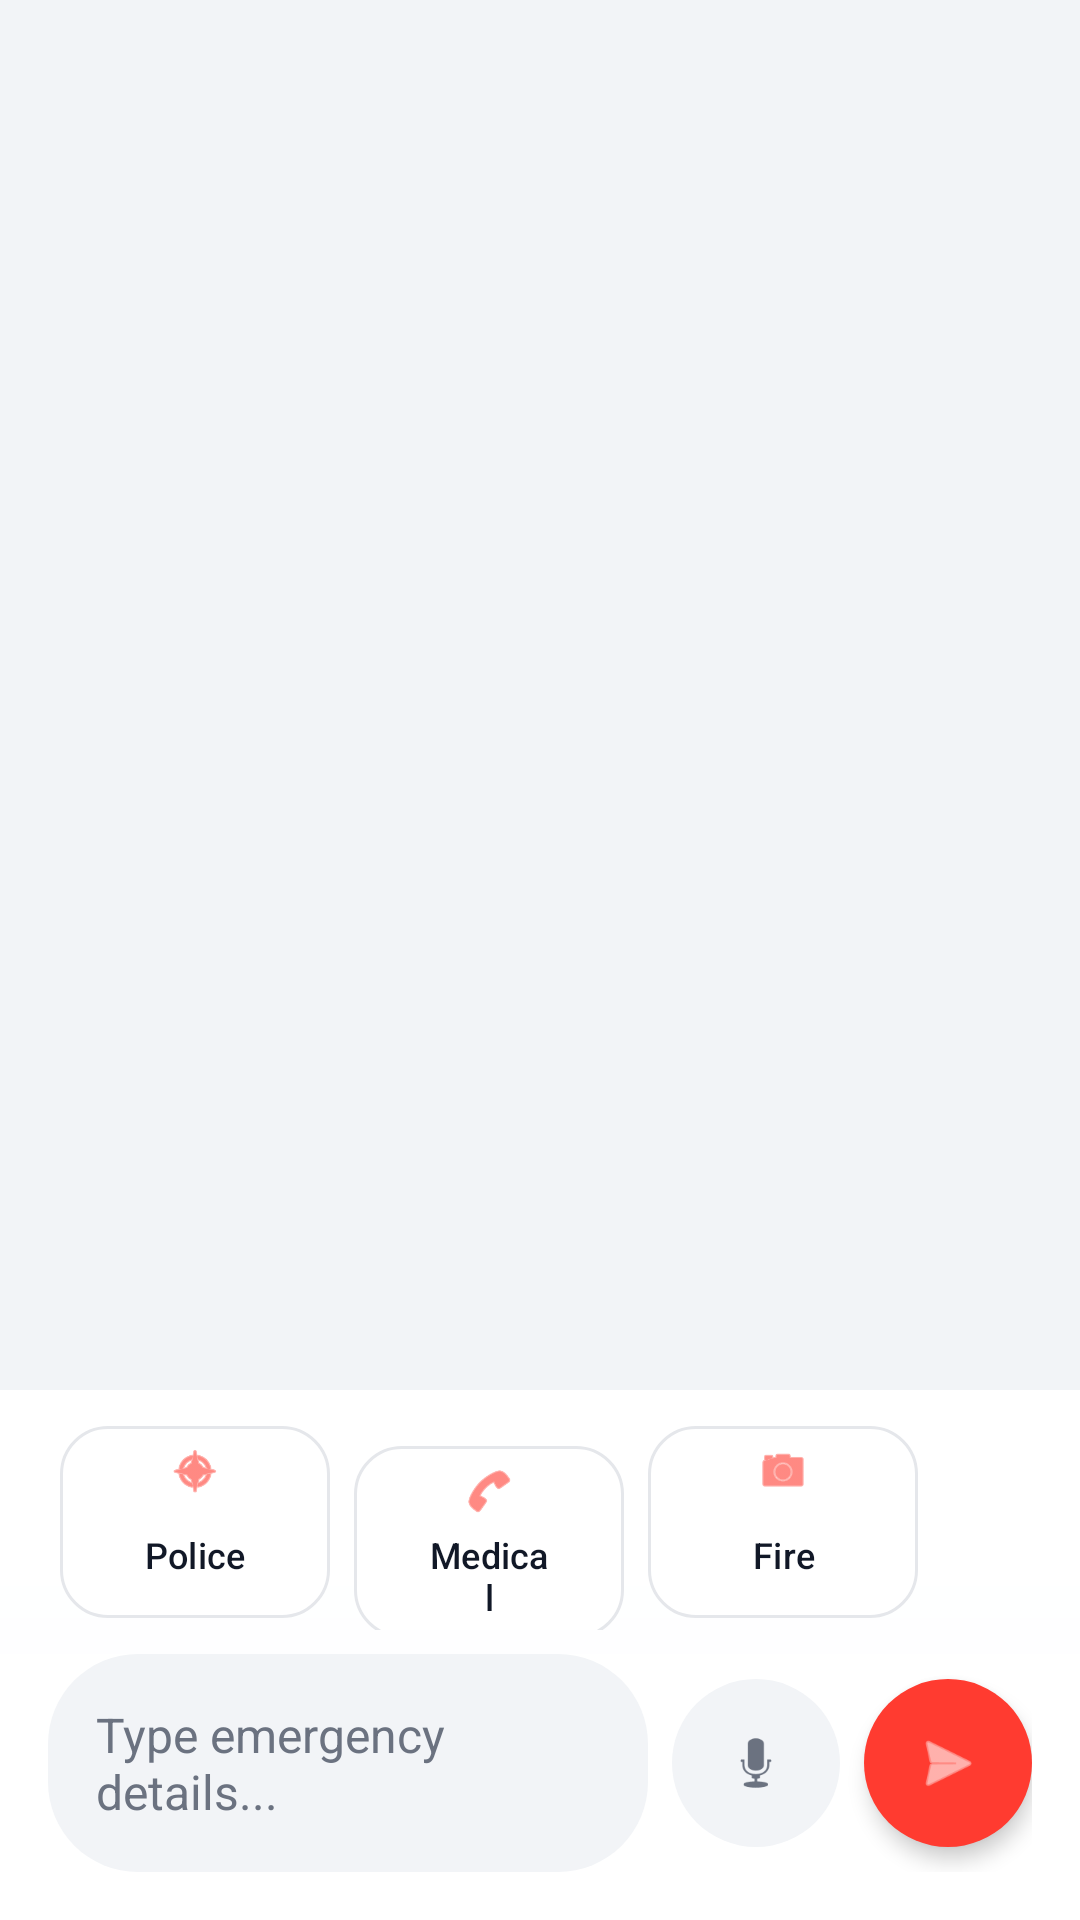

Screen size 1080*1920. Icon name, then its center in pixels as (x,y):
Send: (948,1763)
Voice Input: (756,1763)
